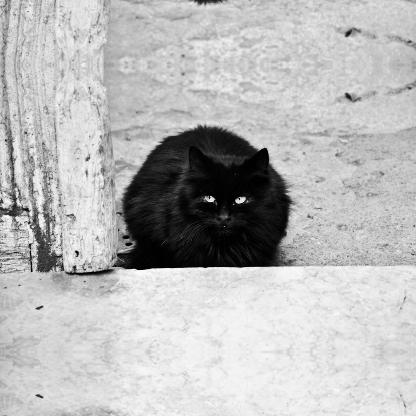Cat: (117, 124, 293, 266)
